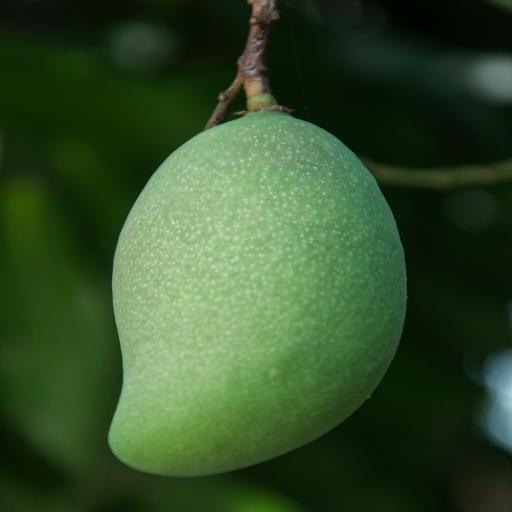Mango-Detection: (39, 29, 473, 506)
